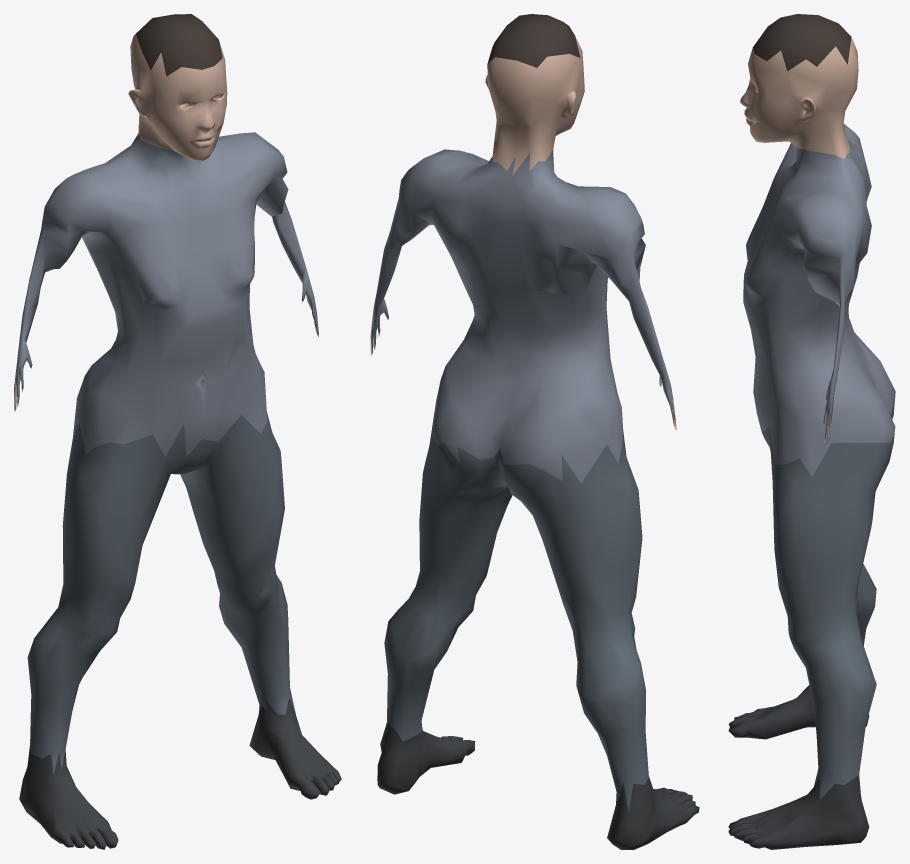
Rendered from bystander-female.glb.
3 renders of one model, left to right at view 1: azimuth 30°, elevation 25°; view 2: azimuth 150°, elevation 25°; view 3: azimuth 270°, elevation 25°, orthographic.
Visible parts, largest first — view 1: Bystander; view 2: Bystander; view 3: Bystander.
Boxes of the visible parts, bbox=[...] form: Bystander: bbox=[14, 14, 341, 849]; Bystander: bbox=[370, 14, 699, 849]; Bystander: bbox=[728, 14, 895, 849].
Bounding box in the file's own units: 0.5488 × 1.34 × 0.2649.
